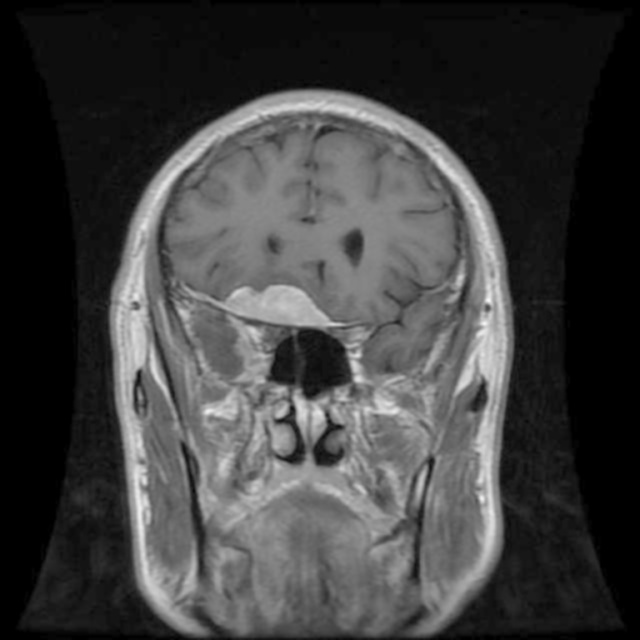meningioma tumor: (191, 280, 350, 338)
